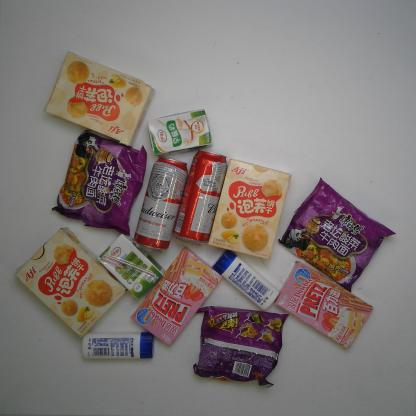Alcohol: (133, 153, 191, 252), (174, 145, 228, 245)
Dessert: (14, 226, 132, 338), (42, 51, 157, 150), (130, 246, 224, 347), (275, 257, 374, 351), (205, 159, 291, 261)
Instant Noodles: (279, 177, 394, 293), (48, 127, 148, 238), (189, 298, 290, 392)
Milk: (95, 235, 166, 303), (147, 108, 213, 156)
Personal Hygiene: (214, 248, 282, 312), (84, 328, 158, 362)
